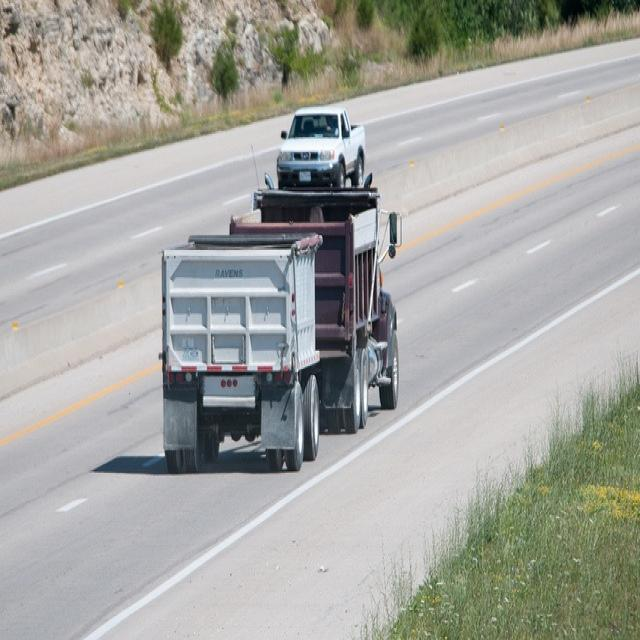truck: (160, 181, 401, 474), (275, 104, 365, 185)
